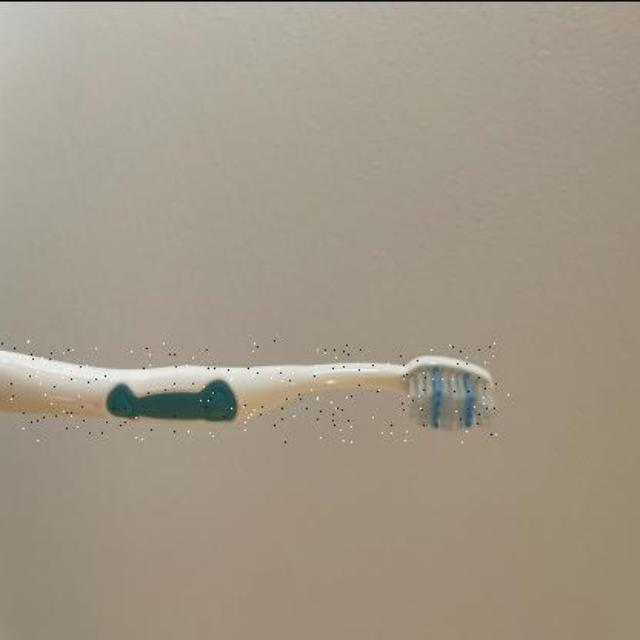toothbrush: (0, 338, 510, 442)
